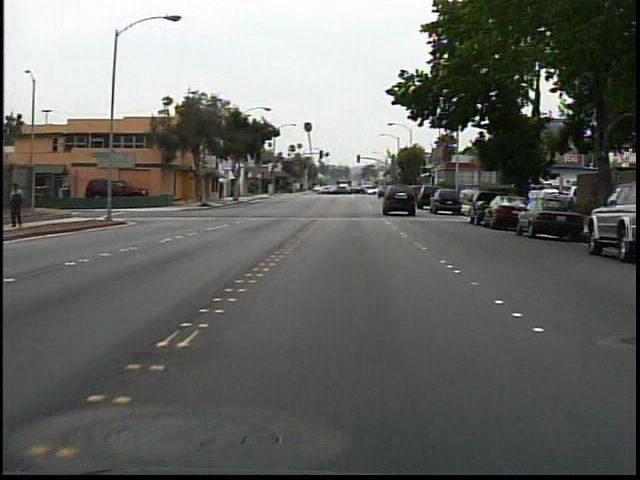person: (7, 180, 33, 231)
